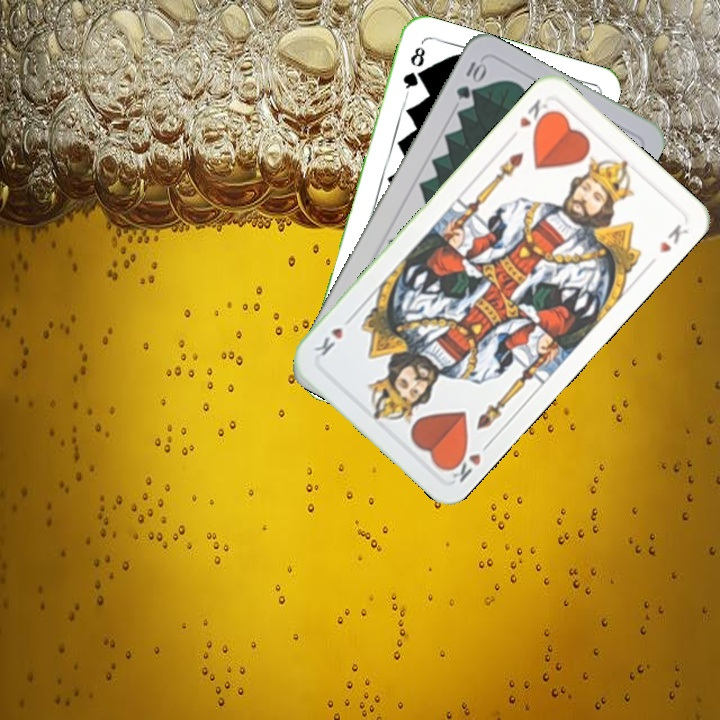G10: (452, 56, 488, 102)
G8: (398, 42, 428, 97)
HK: (443, 437, 495, 486), (515, 94, 554, 134)
